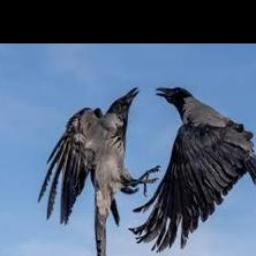Crow: (129, 86, 256, 252), (37, 86, 159, 256)
